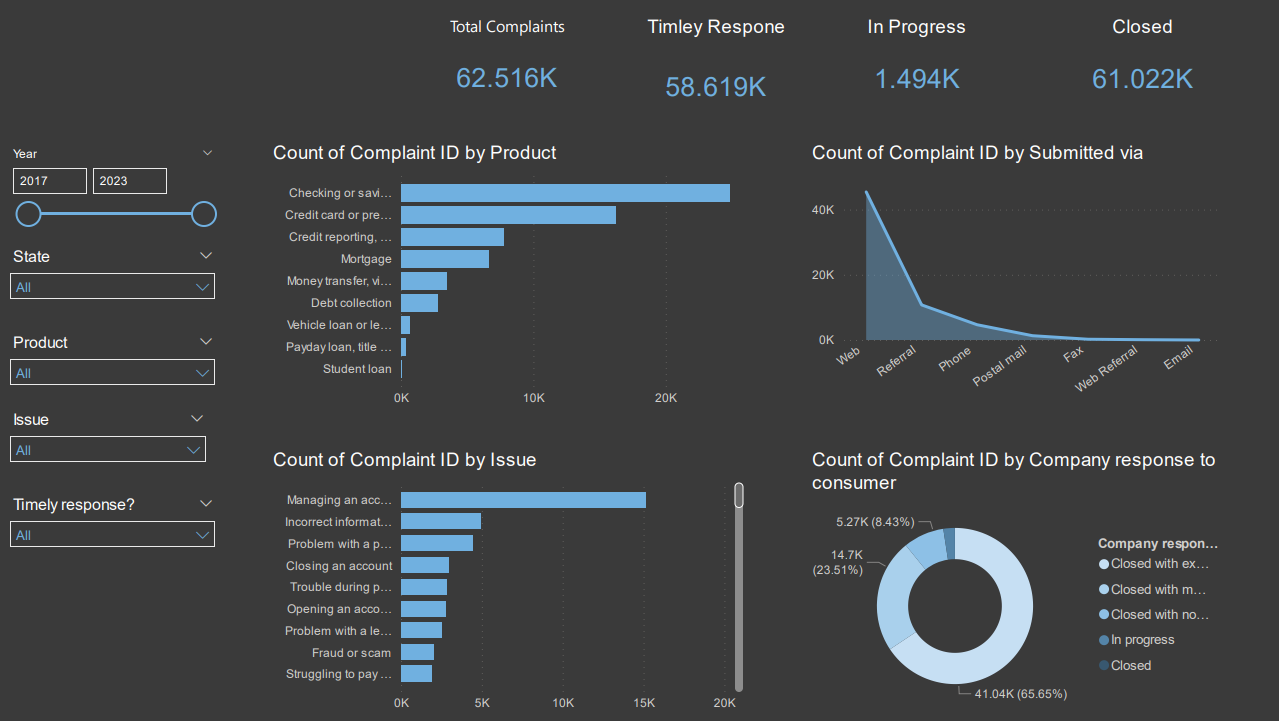

The dashboard page shown, as its layout file describes it:
{"tool":"powerbi","page":{"name":"Page 1","canvas":[1280,720],"ordinal":0},"visuals":[{"type":"barChart","fields":{"Y":["CountNonNull(Data.Complaint ID)"],"Category":["Data.Product"]},"box":[267.6,141.5,480.4,273.1],"z":0},{"type":"areaChart","fields":{"Category":["Data.Submitted via"],"Y":["CountNonNull(Data.Complaint ID)"]},"box":[807.3,141.5,419,273.1],"z":1000},{"type":"barChart","fields":{"Y":["CountNonNull(Data.Complaint ID)"],"Category":["Data.Issue"]},"box":[267.6,447.5,480.4,272],"z":2000},{"type":"donutChart","fields":{"Category":["Data.Company response to consumer"],"Y":["CountNonNull(Data.Complaint ID)"]},"box":[807.3,447.5,419,272],"z":3000},{"type":"cardVisual","title":"Total Complaints","fields":{"Data":["CountNonNull(Data.Complaint ID)"]},"box":[424.5,15.4,166.7,87.7],"z":4000},{"type":"cardVisual","title":"Closed","fields":{"Data":["CountNonNull(Data.Complaint ID)"]},"box":[1059.5,15.4,166.7,87.7],"z":5000},{"type":"cardVisual","title":"Timley Respone","fields":{"Data":["CountNonNull(Data.Timely response?)"]},"box":[632.9,15.4,166.7,87.7],"z":6000},{"type":"cardVisual","title":"In Progress","fields":{"Data":["CountNonNull(Data.Company response to consumer)"]},"box":[833.6,15.4,166.7,87.7],"z":7000},{"type":"slicer","fields":{"Values":["Data.Date submitted.Variation.Date Hierarchy.Year"]},"box":[0,141.5,224.9,100.9],"z":8000},{"type":"slicer","fields":{"Values":["Data.State"]},"box":[0,242.4,224.9,85.6],"z":9000},{"type":"slicer","fields":{"Values":["Data.Product"]},"box":[0,328,224.9,85.6],"z":9001},{"type":"slicer","fields":{"Values":["Data.Issue"]},"box":[0,404.7,216.1,85.6],"z":9002},{"type":"slicer","fields":{"Values":["Data.Timely response?"]},"box":[0,490.3,224.9,85.6],"z":9003}]}

Visuals, with their boxes in screenshot pixels (x1, y1, x2, y2), scaled from the page's 1280x720 canvas onto the 1279x721 screenshot:
barChart - CountNonNull(Data.Complaint ID) x Data.Product: 267, 142, 747, 415
areaChart - Data.Submitted via x CountNonNull(Data.Complaint ID): 807, 142, 1225, 415
barChart - CountNonNull(Data.Complaint ID) x Data.Issue: 267, 448, 747, 720
donutChart - Data.Company response to consumer x CountNonNull(Data.Complaint ID): 807, 448, 1225, 720
"Total Complaints" cardVisual: 424, 15, 591, 103
"Closed" cardVisual: 1059, 15, 1225, 103
"Timley Respone" cardVisual: 632, 15, 799, 103
"In Progress" cardVisual: 833, 15, 1000, 103
slicer - Data.Date submitted.Variation.Date Hierarchy.Year: 0, 142, 225, 243
slicer - Data.State: 0, 243, 225, 328
slicer - Data.Product: 0, 328, 225, 414
slicer - Data.Issue: 0, 405, 216, 491
slicer - Data.Timely response?: 0, 491, 225, 577
